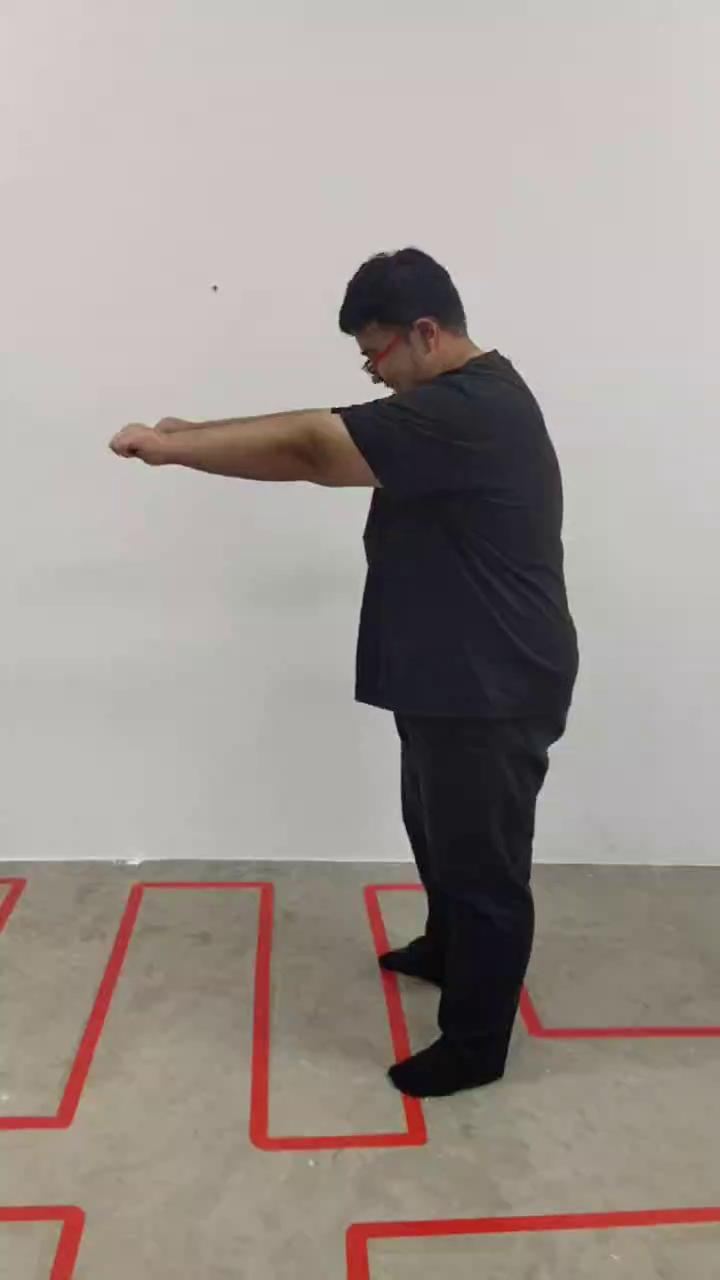squat up: (113, 247, 579, 1100)
